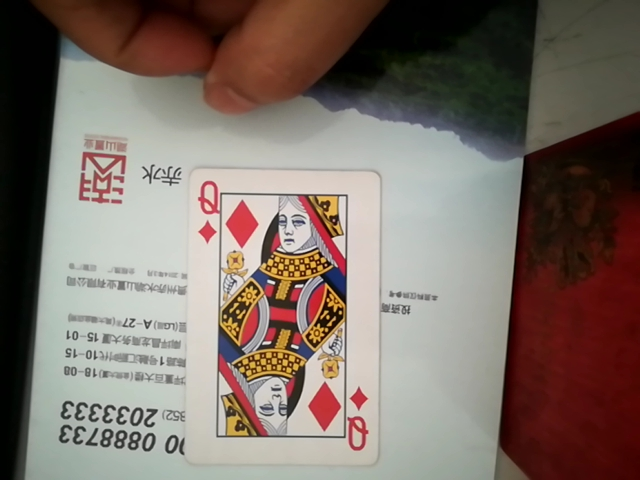fk q: (182, 163, 383, 460)
